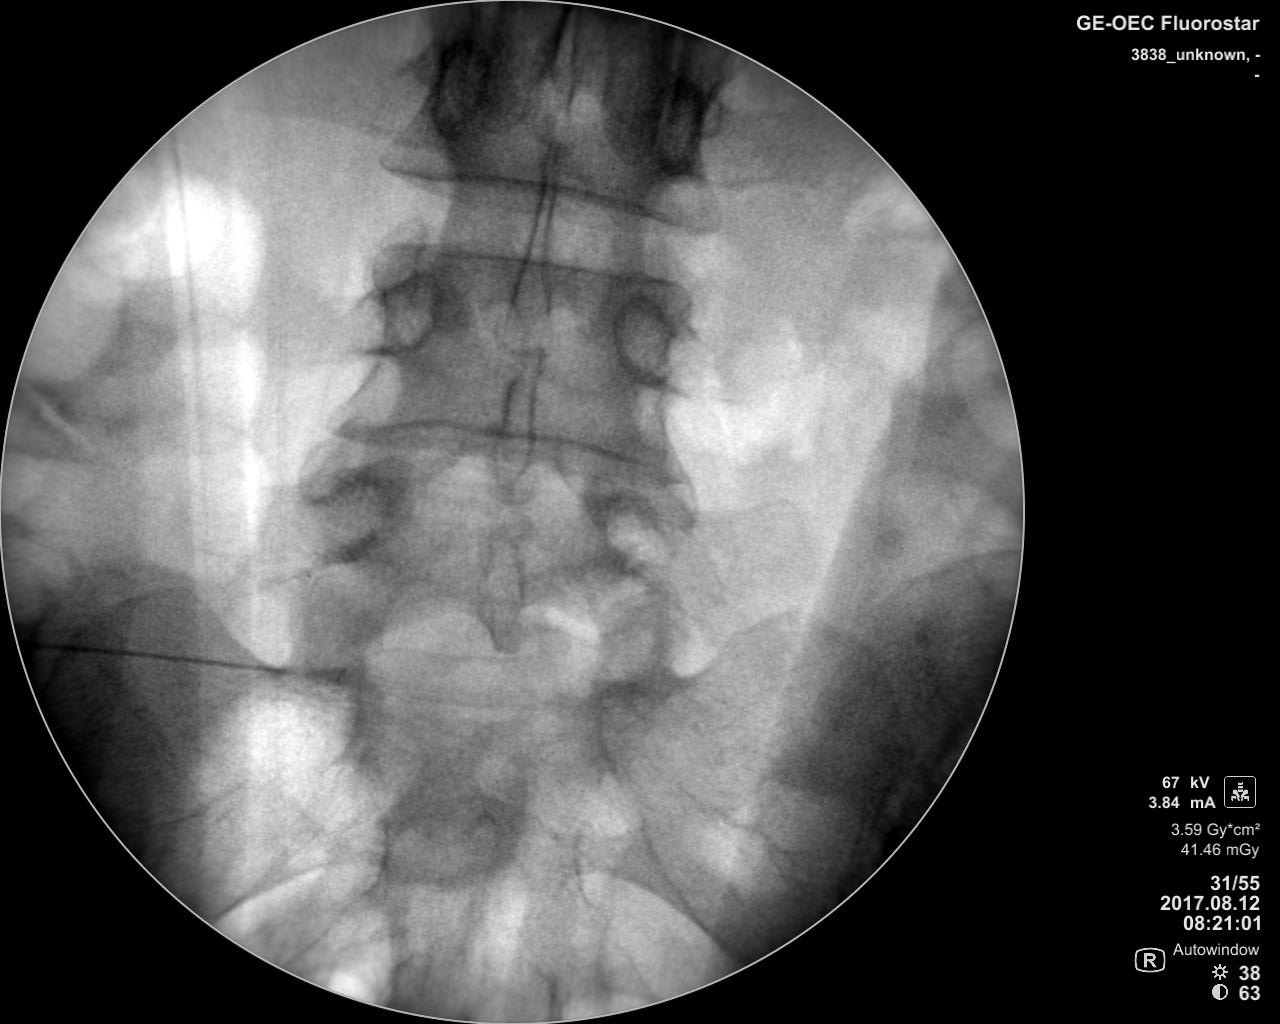eyes: (311, 465, 396, 571), (641, 71, 714, 180), (422, 40, 493, 140), (363, 266, 436, 362), (592, 485, 667, 578), (588, 667, 655, 769), (610, 292, 678, 389), (288, 665, 354, 760)
line: (371, 152, 723, 243), (311, 410, 691, 493), (362, 224, 696, 299), (359, 673, 591, 715)
nose: (506, 137, 563, 329), (489, 344, 540, 495), (529, 8, 587, 126), (473, 522, 525, 656)
